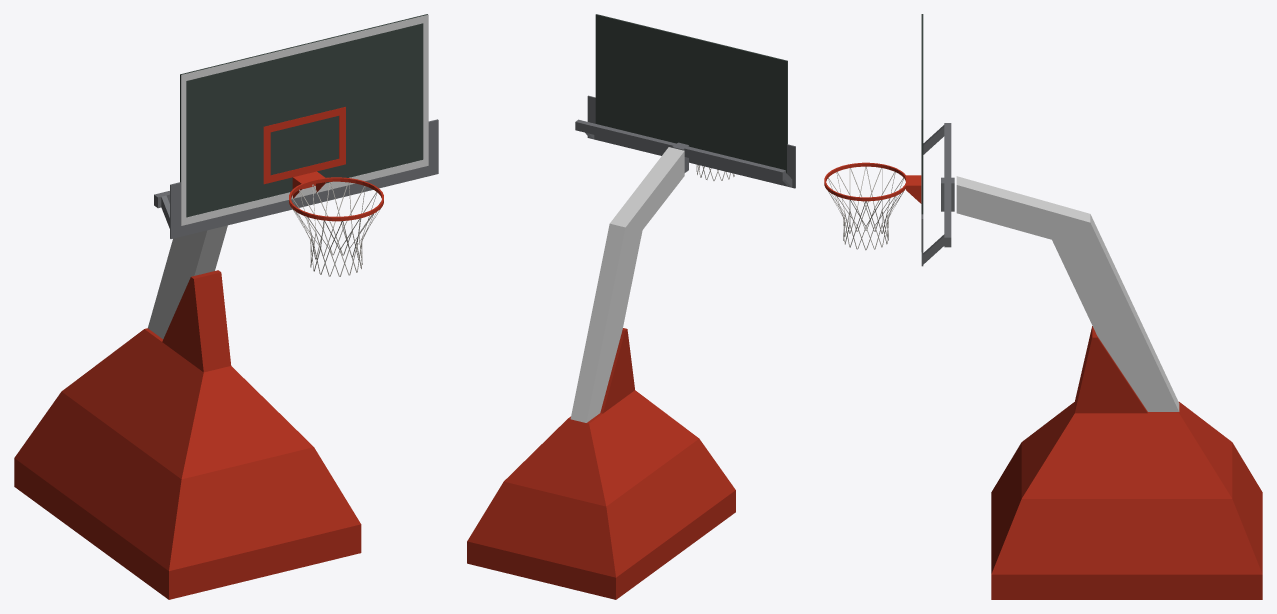
Rendered from BasketballHoop.dae.
The picture shows the model from 3 angles, left to right: view 1: azimuth 30°, elevation 25°; view 2: azimuth 150°, elevation 25°; view 3: azimuth 270°, elevation 25°; orthographic projection. The views are drawn at different scales.
Parts seen in each view (by area): view 1: _4_17, __17, __13, __14, __18, _6_1, _5_1, _1_1, _7_1, _8_1, _9_1, _0_12 (+2 smaller); view 2: _4_17, __17, __14, _4_1, __13, __18; view 3: _4_17, __14, __13, _4_1, _1_1, __17.
Part boxes in pixels (bbox=[...]): _4_17: bbox=[14, 328, 361, 599]; __17: bbox=[180, 14, 427, 217]; __13: bbox=[162, 270, 231, 372]; __14: bbox=[148, 225, 227, 338]; __18: bbox=[181, 166, 428, 236]; _6_1: bbox=[181, 14, 428, 82]; _5_1: bbox=[181, 158, 428, 225]; _1_1: bbox=[289, 177, 383, 221]; _7_1: bbox=[181, 81, 186, 218]; _8_1: bbox=[423, 22, 428, 159]; _9_1: bbox=[263, 157, 345, 184]; _0_12: bbox=[263, 107, 345, 133]; _4_17: bbox=[467, 390, 735, 599]; __17: bbox=[595, 14, 787, 173]; __14: bbox=[570, 147, 684, 422]; _4_1: bbox=[575, 119, 785, 180]; __13: bbox=[600, 328, 634, 413]; __18: bbox=[595, 135, 786, 186]; _4_17: bbox=[991, 402, 1262, 599]; __14: bbox=[956, 176, 1179, 411]; __13: bbox=[1074, 326, 1147, 413]; _4_1: bbox=[944, 123, 951, 247]; _1_1: bbox=[824, 162, 907, 201]; __17: bbox=[921, 14, 923, 214].
Size of the model in its own units: 1.98 by 3.2 by 3.96.
